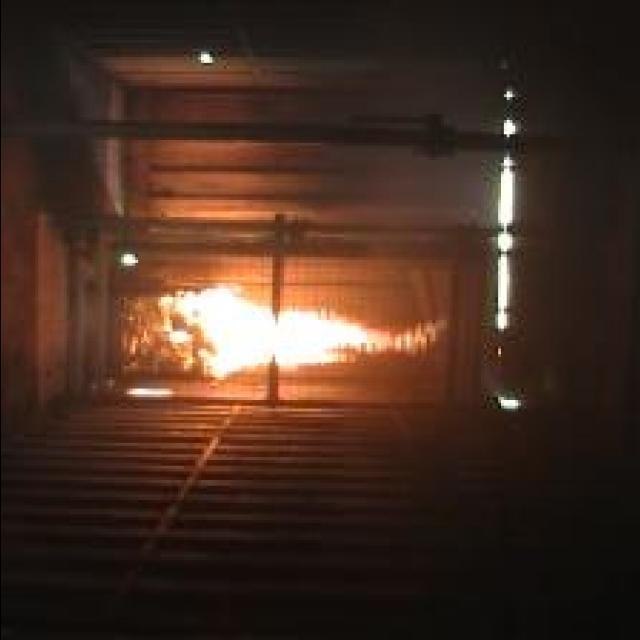Fire: (162, 288, 444, 382)
